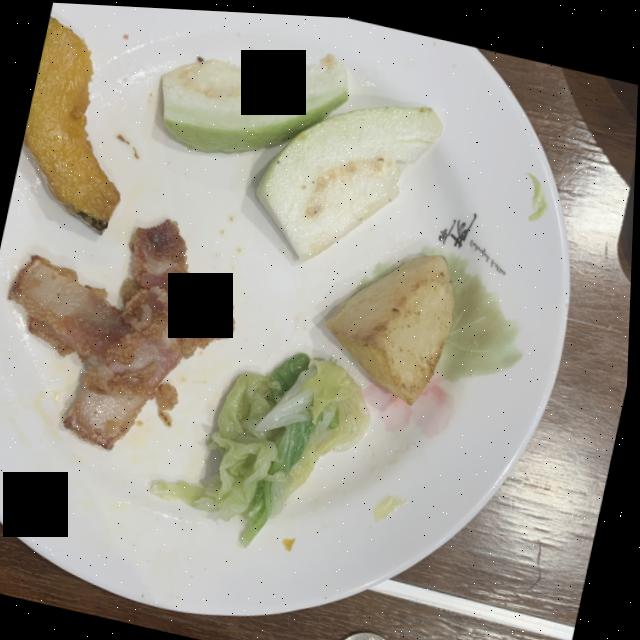cabbage: (154, 349, 372, 543)
coin: (343, 627, 393, 640)
fried potato: (326, 250, 456, 400)
guava -sliced-: (161, 50, 442, 257)
pumpkin: (23, 15, 121, 232)
red grilled pork: (10, 218, 236, 448)
